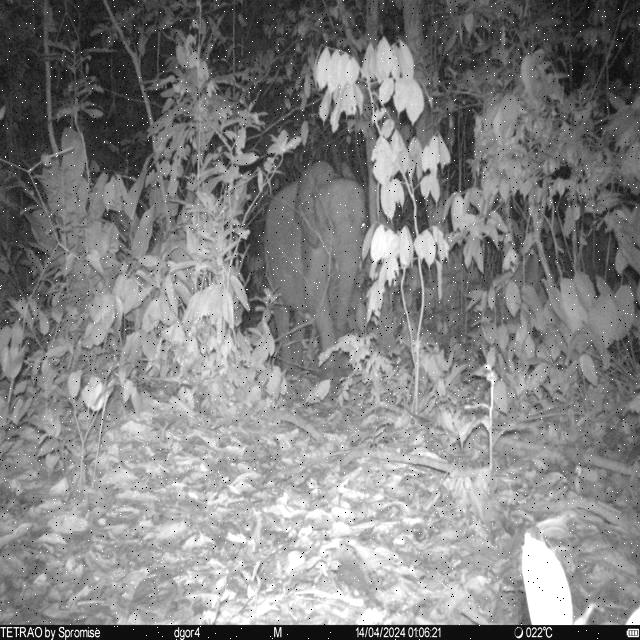ear: (294, 160, 332, 251)
elephant: (264, 158, 368, 386)
